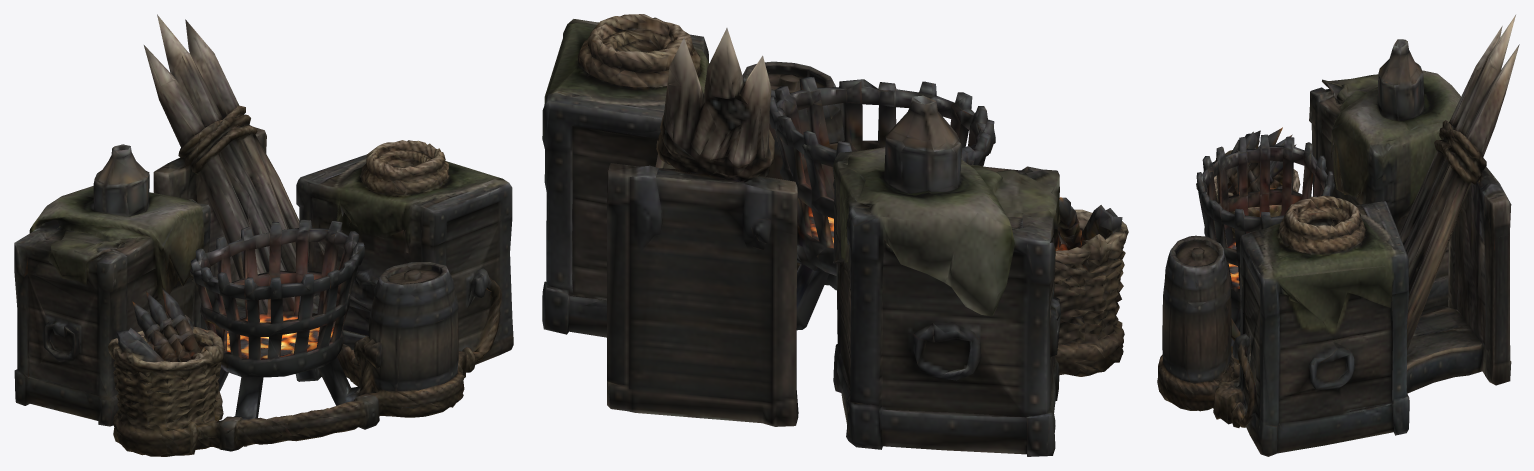
The model's file is briarhold-defender-cache-512.glb.
The picture shows the model from 3 angles, left to right: view 1: azimuth 30°, elevation 25°; view 2: azimuth 150°, elevation 25°; view 3: azimuth 270°, elevation 25°; orthographic projection. The views are drawn at different scales.
Visible parts, largest first — view 1: briarhold-defender-cache; view 2: briarhold-defender-cache; view 3: briarhold-defender-cache.
Boxes of the visible parts, left/top/right/bottom form: briarhold-defender-cache: left=14, top=14, right=513, bottom=456; briarhold-defender-cache: left=542, top=14, right=1128, bottom=456; briarhold-defender-cache: left=1157, top=15, right=1519, bottom=456.
Bounding box in the file's own units: 4.6 × 3.2 × 3.2.
1 material, 1 textured.
